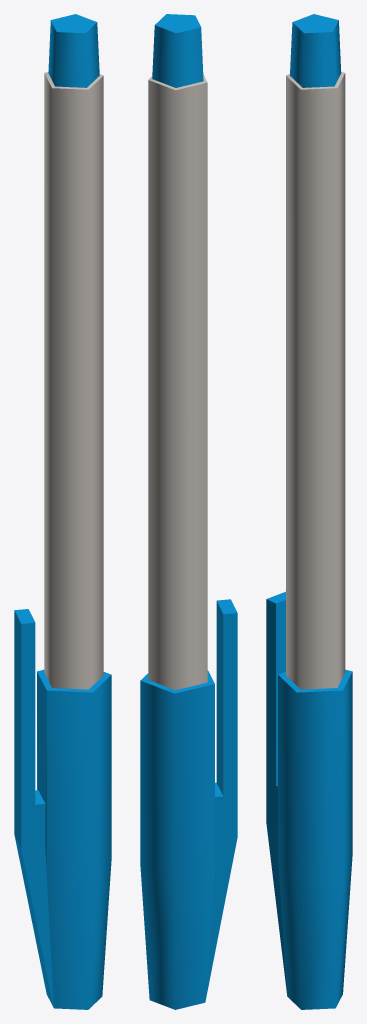
File: lapicero.glb
3 views of the same model, side by side, from view 1: azimuth 30°, elevation 25°; view 2: azimuth 210°, elevation 25°; view 3: azimuth 330°, elevation 25° (orthographic).
Parts seen in each view (by area): view 1: node-0; view 2: node-0; view 3: node-0.
Boxes of the visible parts, x1,y1,x2,y2 form: node-0: (14, 14, 111, 1009); node-0: (140, 14, 237, 1009); node-0: (266, 14, 352, 1009).
Size of the model in its own units: 21.83 by 244 by 16.46.
